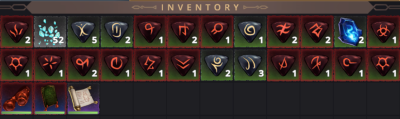ethereal dust: (34, 15, 66, 46)
